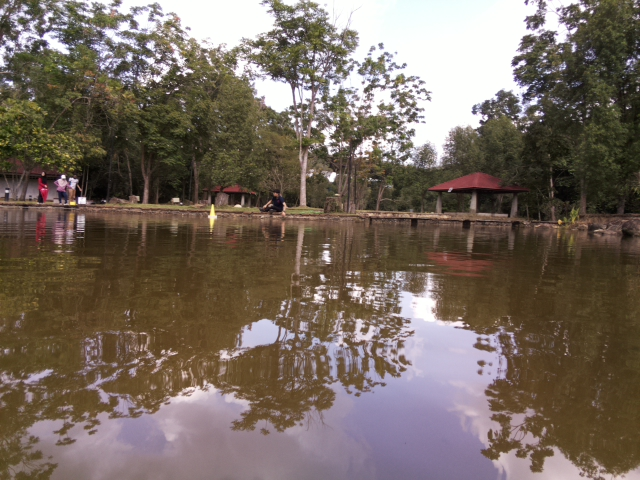checkpoint: (206, 203, 218, 219)
